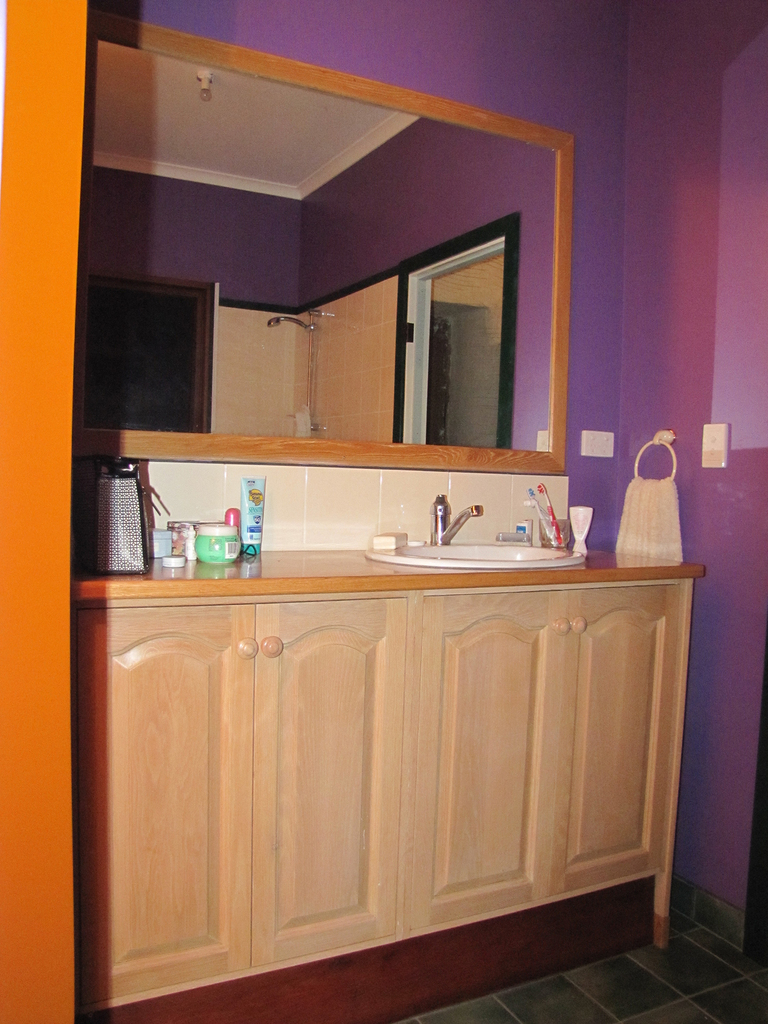cabinet door: (86, 604, 247, 942), (263, 613, 398, 934), (418, 600, 559, 887), (565, 603, 663, 873)
handle: (257, 622, 286, 676), (569, 594, 591, 649), (233, 627, 259, 667), (555, 600, 571, 653)
